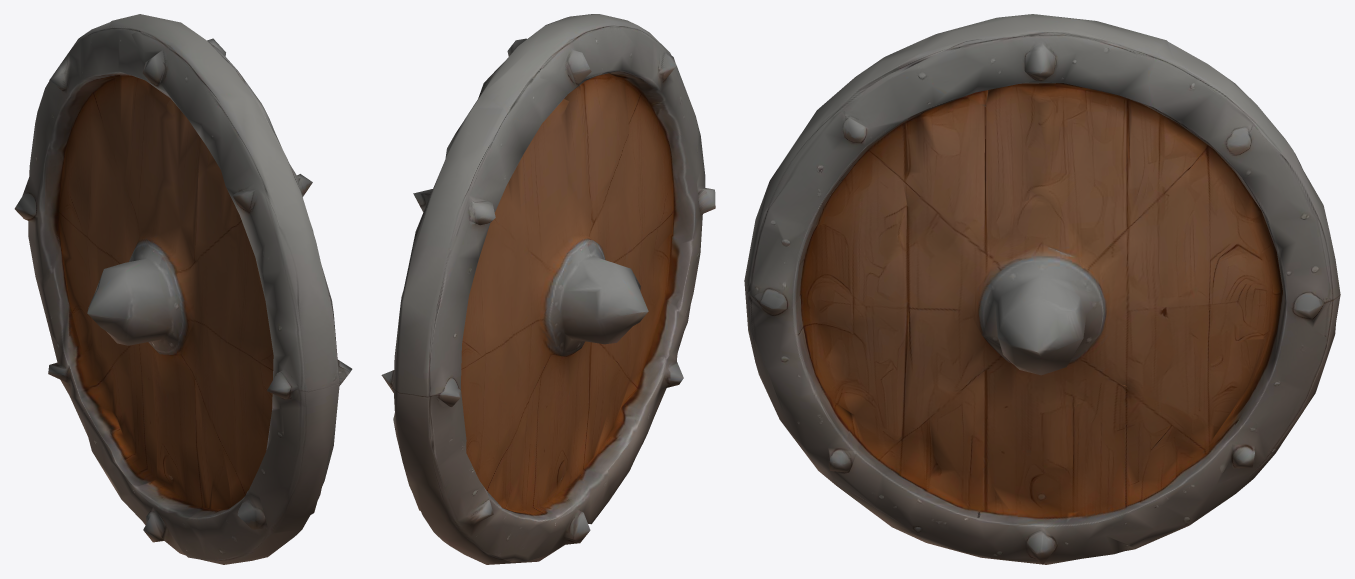
Rendered from item_roundshield.glb.
3 views of the same model, side by side, from view 1: azimuth 30°, elevation 25°; view 2: azimuth 150°, elevation 25°; view 3: azimuth 270°, elevation 25° (orthographic). The views are drawn at different scales.
Visible parts, largest first — view 1: tripo_node_48fa6a97-eca4-4dcd-9275-3fba79abdc44; view 2: tripo_node_48fa6a97-eca4-4dcd-9275-3fba79abdc44; view 3: tripo_node_48fa6a97-eca4-4dcd-9275-3fba79abdc44.
Part boxes in pixels (left/top/right/bottom): tripo_node_48fa6a97-eca4-4dcd-9275-3fba79abdc44: left=14, top=14, right=352, bottom=564; tripo_node_48fa6a97-eca4-4dcd-9275-3fba79abdc44: left=381, top=14, right=715, bottom=564; tripo_node_48fa6a97-eca4-4dcd-9275-3fba79abdc44: left=744, top=14, right=1340, bottom=564.
Bounding box in the file's own units: 0.4526 × 0.9973 × 1.
1 material, 1 textured.
